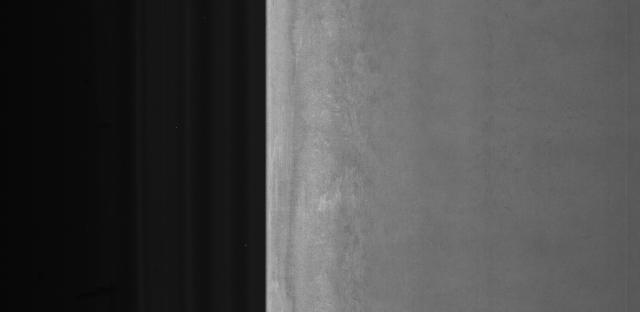silk_spot: (314, 41, 392, 230)
